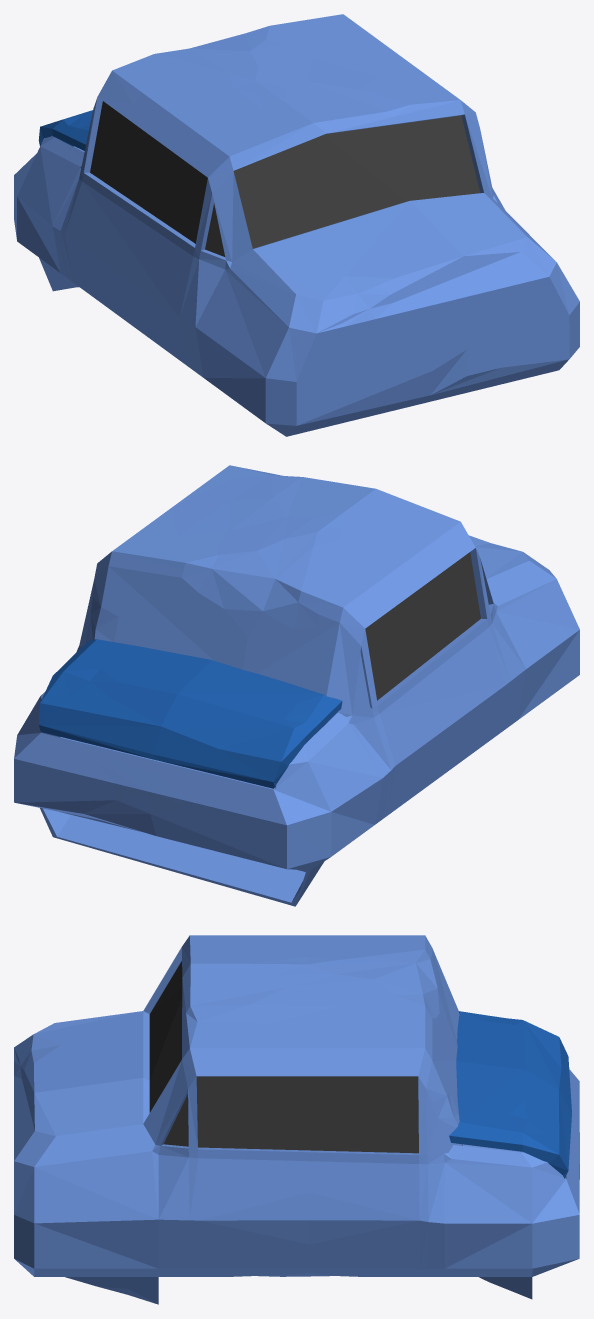
File: Enemy_S_Edany_Shaded.fbx
3 views of the same model, one above another, from view 1: azimuth 30°, elevation 25°; view 2: azimuth 150°, elevation 25°; view 3: azimuth 270°, elevation 25° (orthographic).
Parts seen in each view (by area): view 1: S_Edan, T_Runk; view 2: S_Edan, T_Runk; view 3: S_Edan, T_Runk.
Boxes of the visible parts, x1=… form: S_Edan: x1=14, y1=14, x2=579, y2=436; T_Runk: x1=38, y1=110, x2=92, y2=150; S_Edan: x1=14, y1=465, x2=579, y2=906; T_Runk: x1=38, y1=639, x2=342, y2=788; S_Edan: x1=14, y1=935, x2=579, y2=1304; T_Runk: x1=449, y1=1011, x2=571, y2=1178.
Size of the model in its own units: 396 by 311 by 587.
